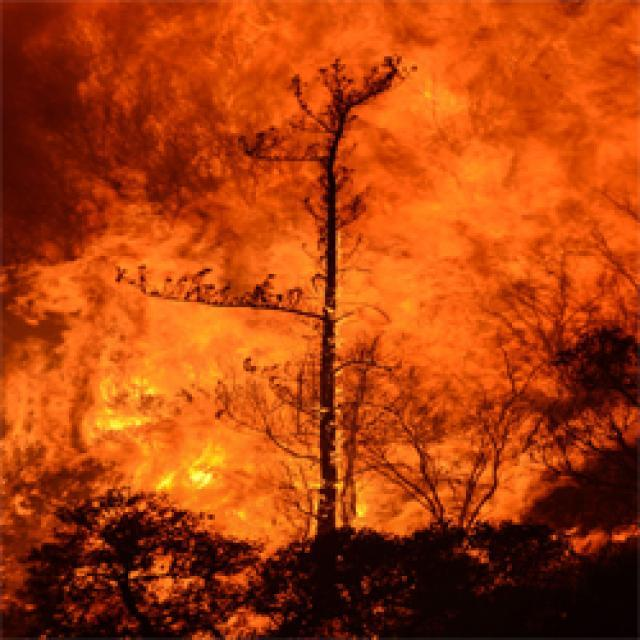Fire: (253, 178, 640, 592), (44, 298, 397, 555), (0, 238, 123, 548)
Smoke: (201, 0, 640, 478)
